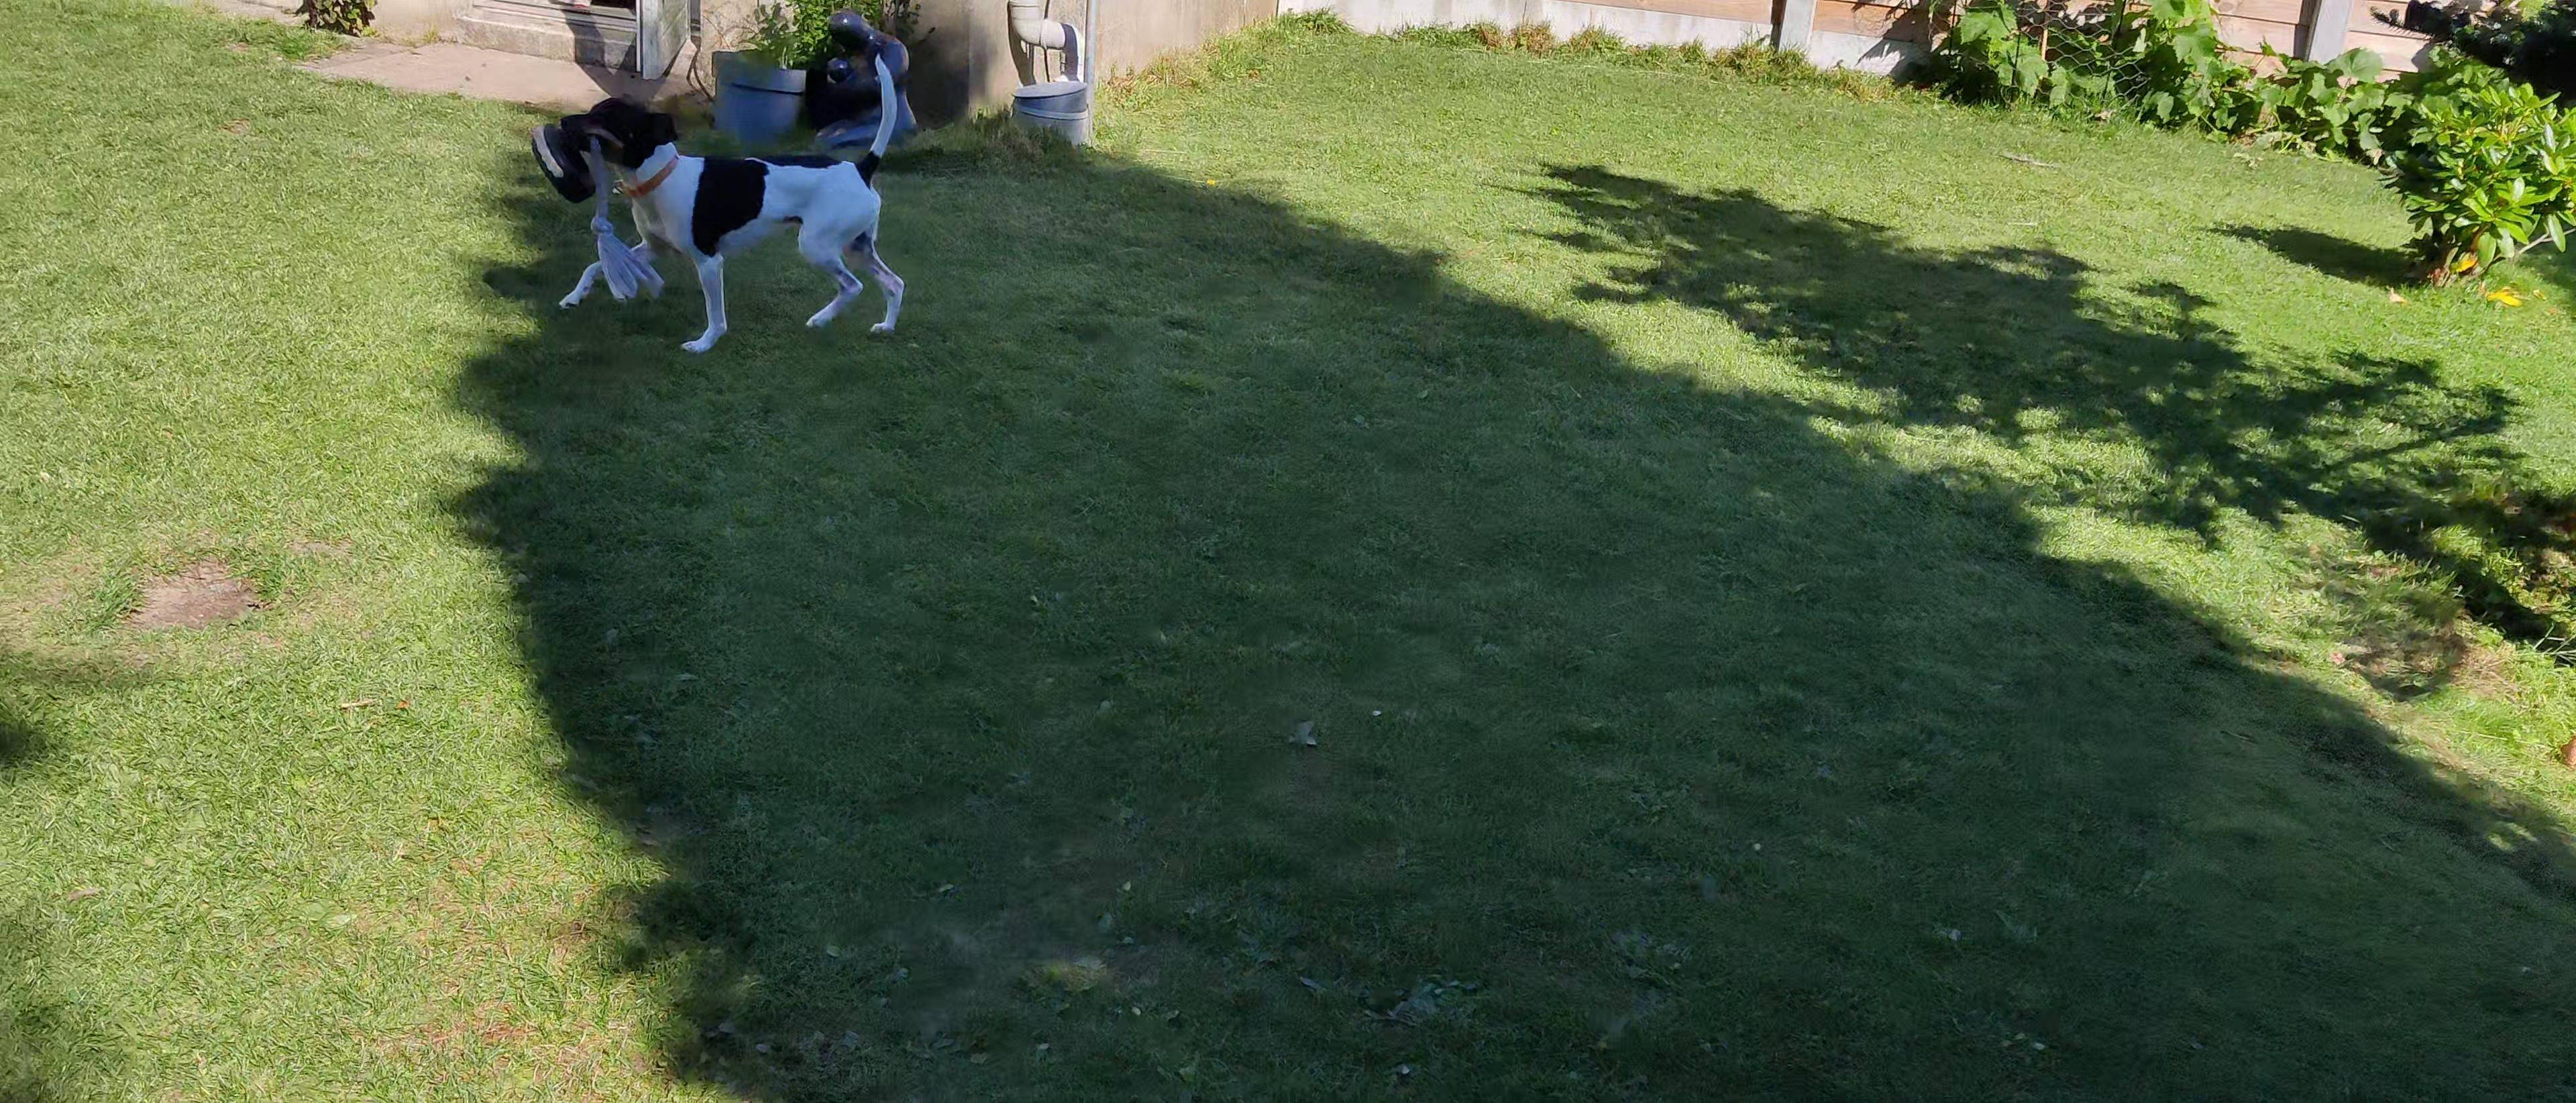Dog: (549, 51, 912, 362)
